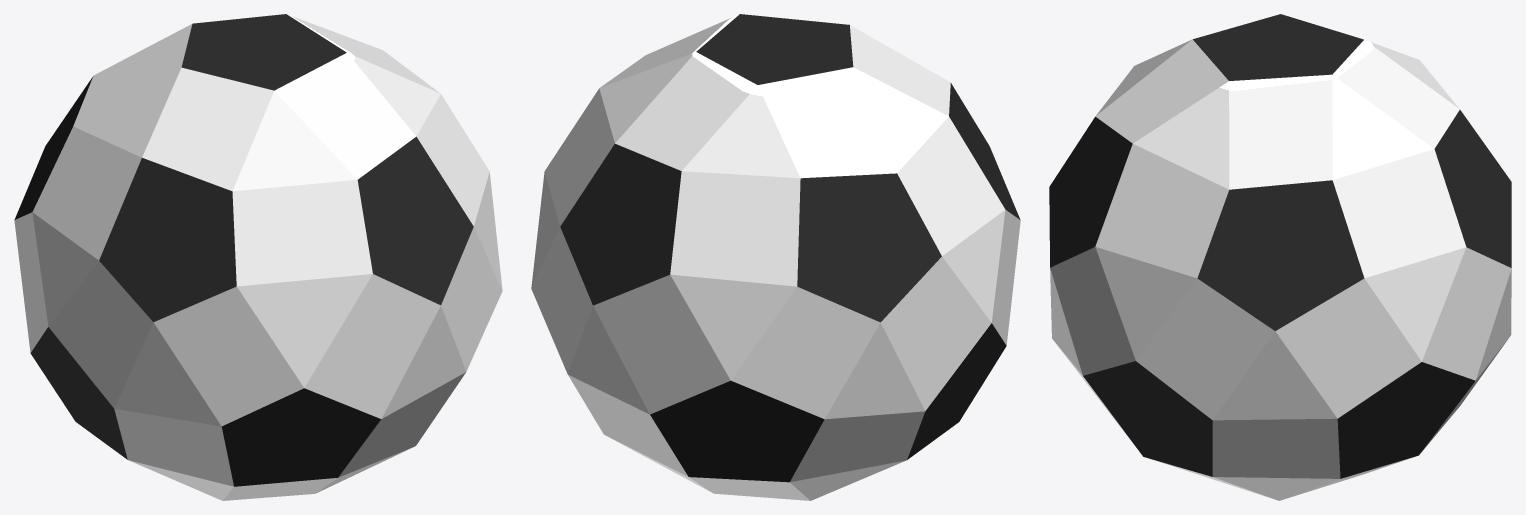
File: soccer-ball.glb
The picture shows the model from 3 angles, left to right: view 1: azimuth 30°, elevation 25°; view 2: azimuth 150°, elevation 25°; view 3: azimuth 270°, elevation 25°; orthographic projection.
Parts seen in each view (by area): view 1: soccer-ball; view 2: soccer-ball; view 3: soccer-ball.
Boxes of the visible parts, x1,y1,x2,y2 form: soccer-ball: [14, 14, 502, 500]; soccer-ball: [531, 14, 1020, 500]; soccer-ball: [1049, 14, 1511, 500].
Bounding box in the file's own units: 0.258 × 0.2456 × 0.2462.
1 material, 1 textured.
